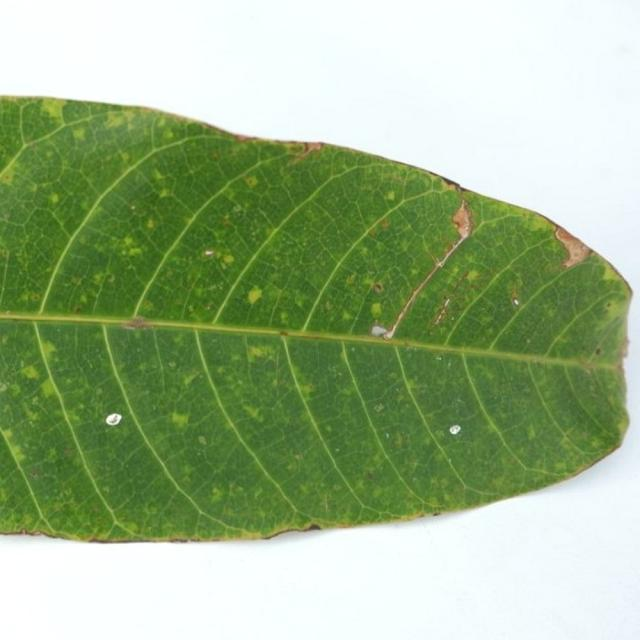Mango: (0, 97, 630, 541)
Powdery_Mildew: (163, 397, 201, 434), (450, 199, 475, 241), (205, 224, 238, 252), (239, 281, 269, 309), (4, 437, 28, 464), (41, 100, 63, 119), (104, 111, 127, 129), (241, 404, 262, 422), (40, 379, 59, 398), (247, 344, 269, 360), (182, 370, 202, 387), (601, 268, 621, 285), (39, 340, 57, 358), (1, 165, 17, 184), (21, 364, 39, 380), (19, 290, 40, 303), (392, 432, 406, 450), (370, 324, 389, 337), (72, 127, 87, 141), (299, 383, 315, 396), (294, 292, 307, 308), (370, 302, 383, 316), (210, 486, 224, 499), (526, 424, 537, 440), (341, 309, 354, 322), (245, 175, 258, 188), (152, 168, 165, 181), (128, 245, 142, 257), (181, 464, 195, 476), (222, 253, 235, 265), (92, 273, 105, 285), (158, 187, 171, 198), (467, 269, 480, 280), (140, 299, 153, 310), (385, 189, 396, 201), (406, 380, 419, 390), (48, 193, 59, 204), (163, 129, 174, 140), (346, 274, 357, 285), (279, 311, 289, 323), (232, 203, 243, 213), (146, 218, 155, 229), (79, 294, 88, 303), (325, 300, 333, 310), (512, 297, 520, 306), (325, 425, 333, 433)
